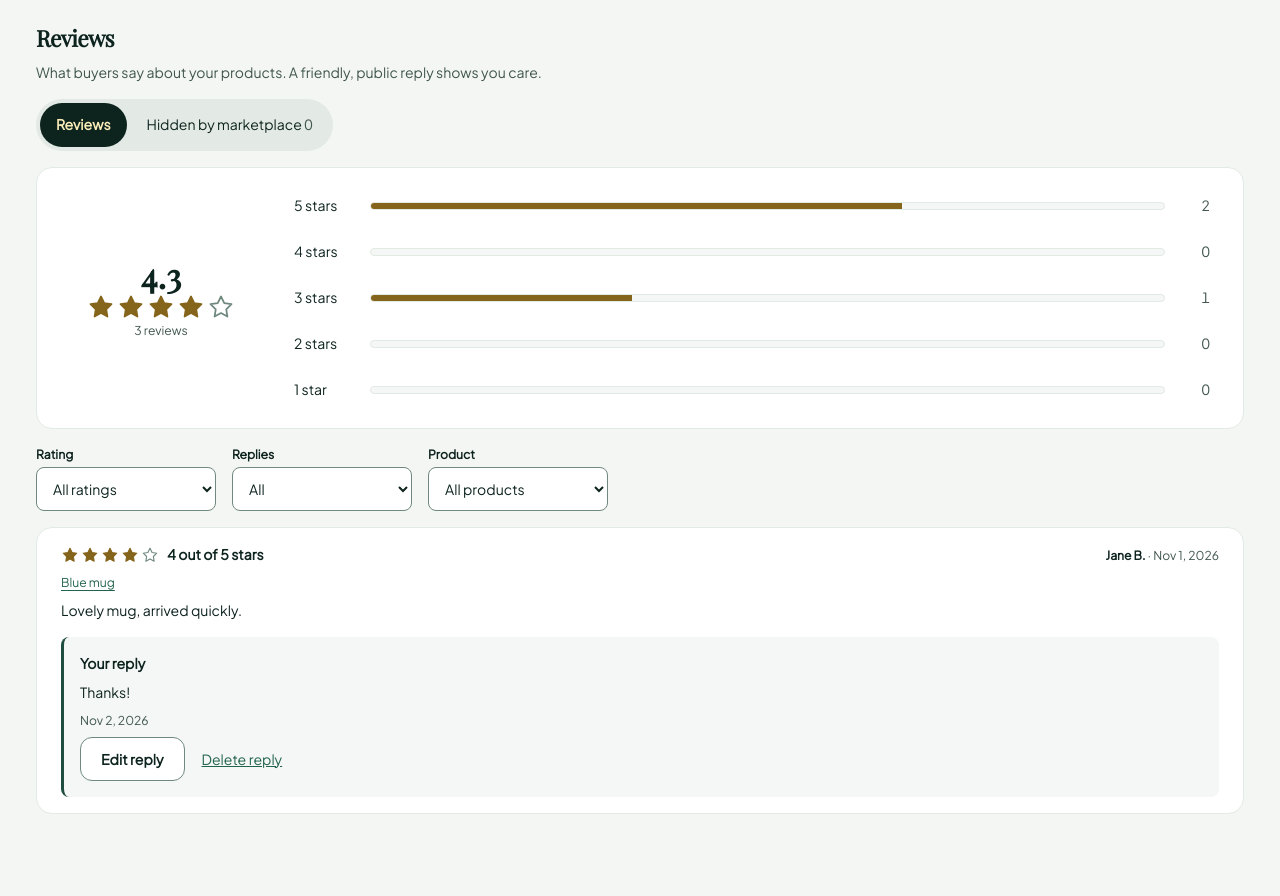
Test: delete reply › deletes the reply after the confirmation and reloads the list
Click the button "Delete reply" at (242, 759), box x1=192 y1=737 x2=291 y2=781
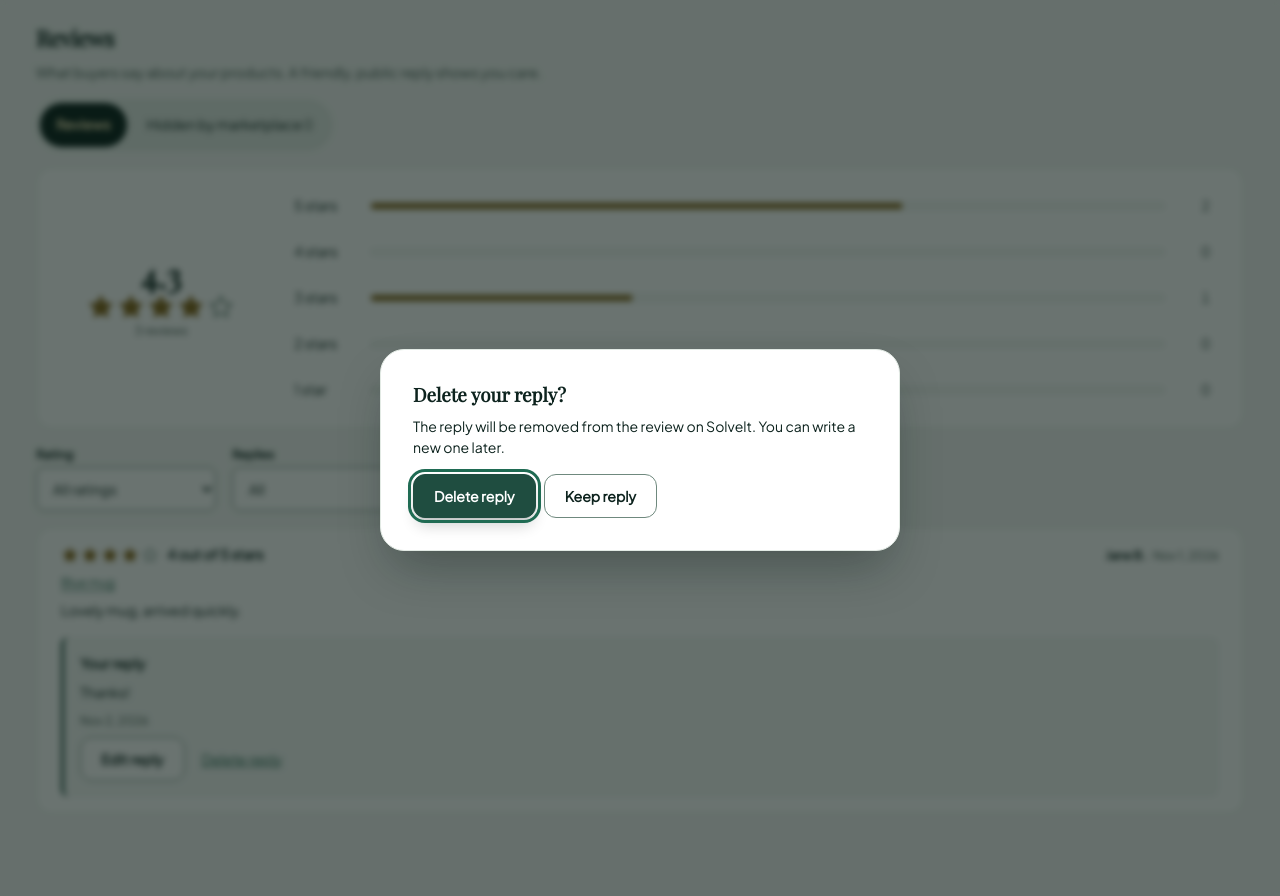
Click the button "Delete reply" at (474, 496), box x1=413 y1=474 x2=536 y2=518
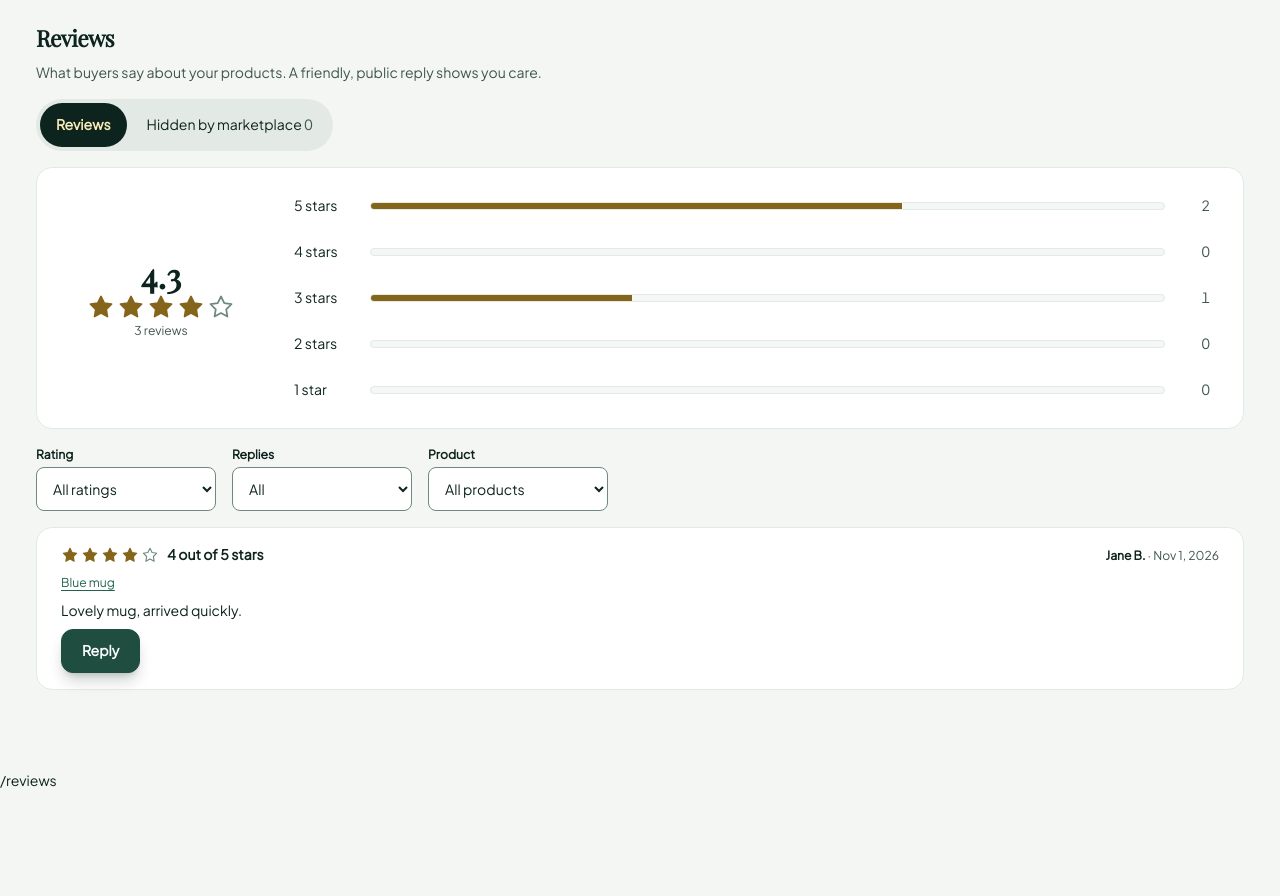
Check: the button "Reply" is shown, box x1=61 y1=629 x2=140 y2=673
Check: the text "Thanks!" is gone
